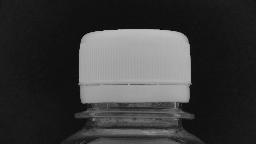Loose Cap: (68, 74, 202, 124)
